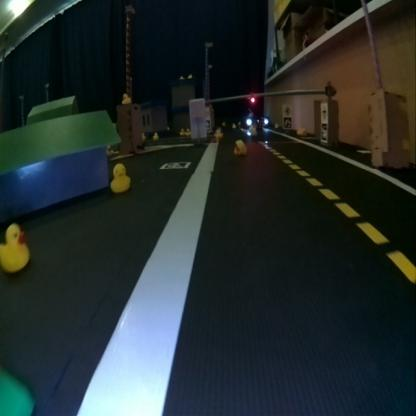Duckie: (1, 222, 29, 273), (110, 162, 130, 192), (233, 139, 246, 155), (122, 93, 130, 103), (297, 127, 304, 135), (184, 127, 190, 136), (178, 127, 184, 136), (152, 132, 158, 140), (250, 126, 256, 134), (216, 129, 221, 137), (232, 122, 238, 128), (273, 122, 279, 127)
Intersection sign: (320, 104, 326, 120)
QR code: (160, 161, 190, 168), (320, 122, 326, 140), (284, 116, 292, 127)
Traffic light: (249, 96, 255, 104)
